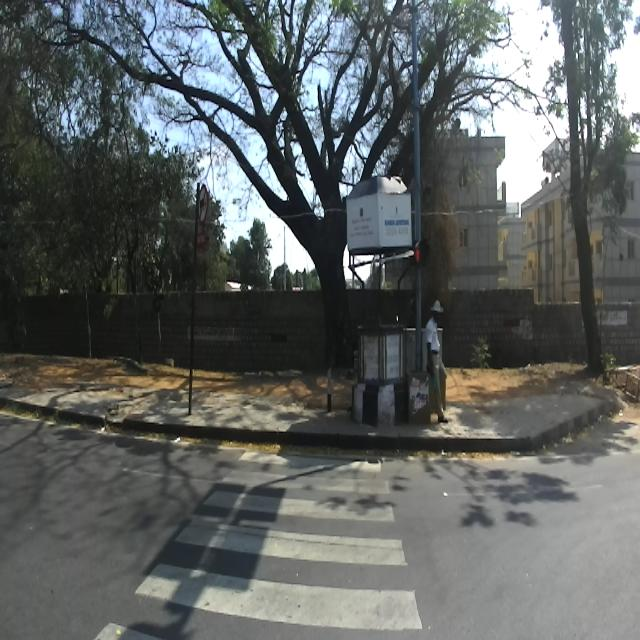person ahead at: (421, 296, 451, 430)
zebra crossing ahead at: (123, 415, 437, 640)
